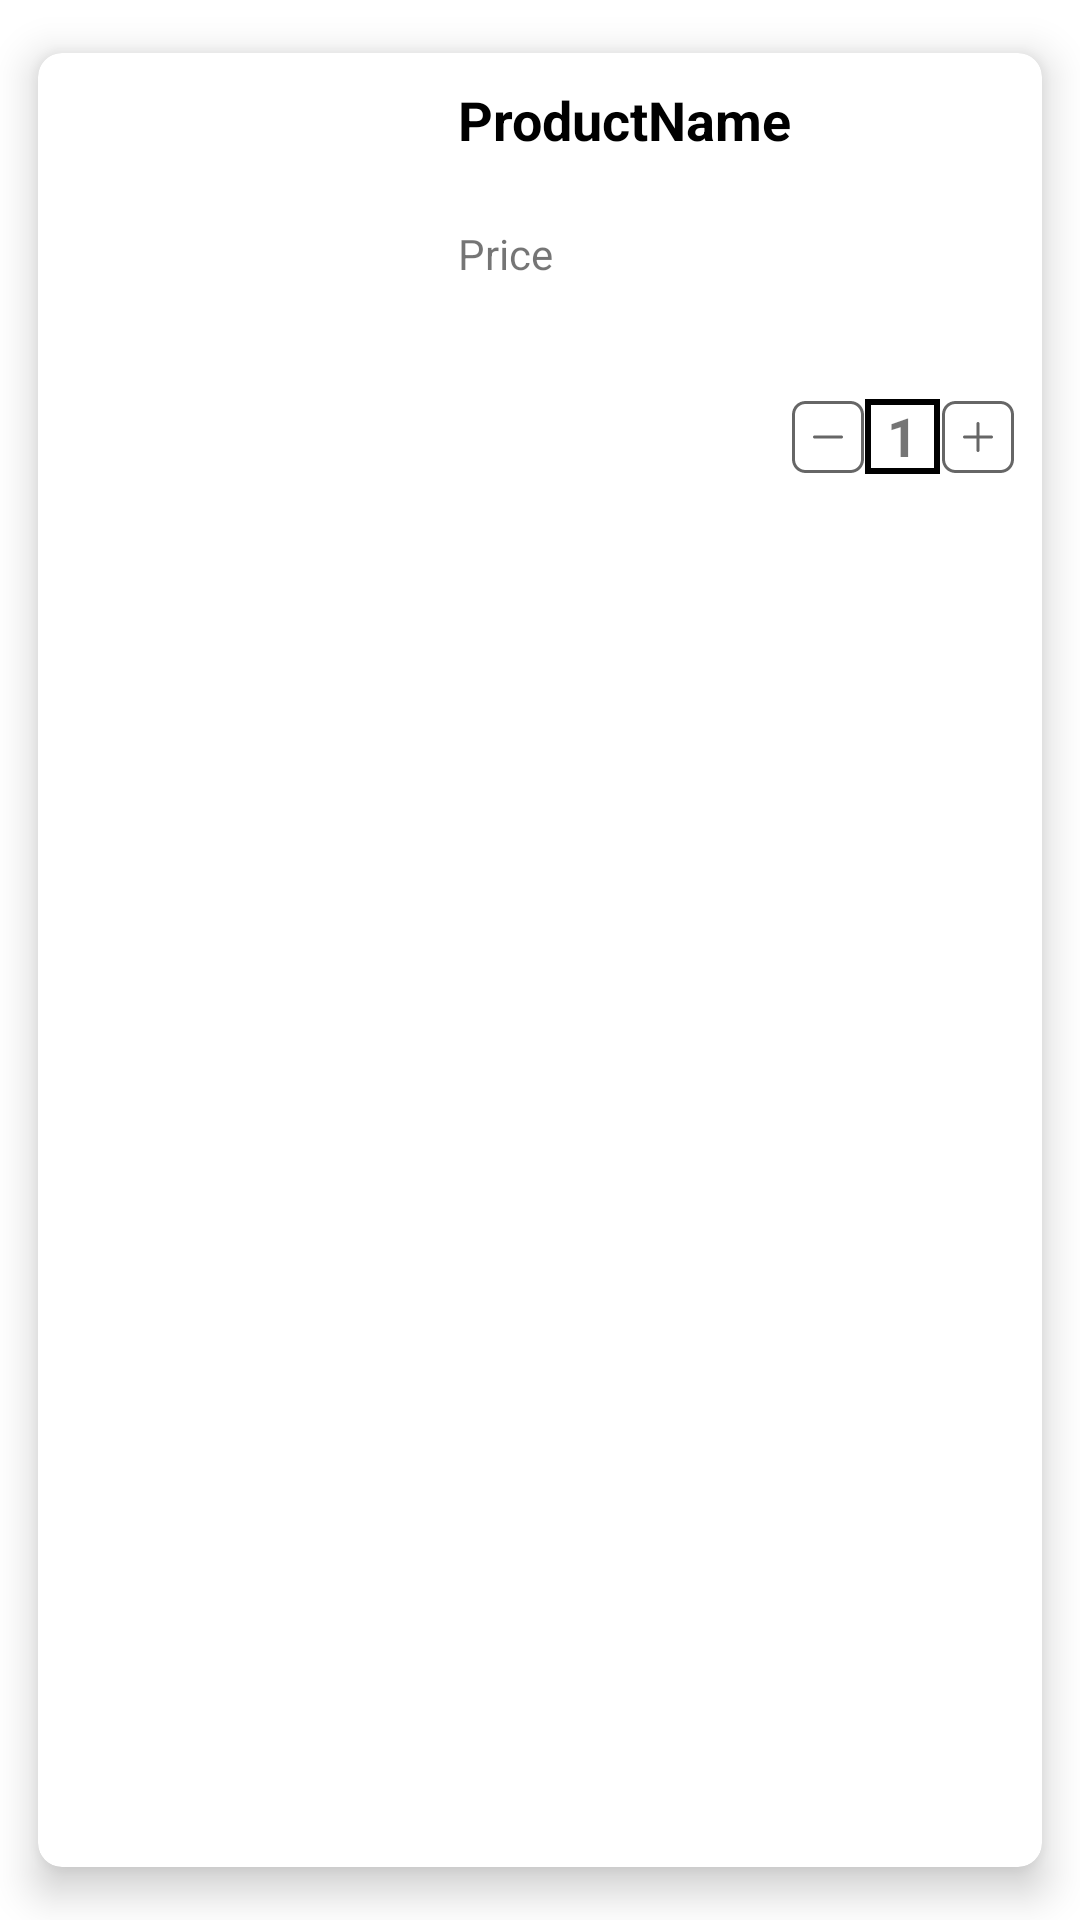

Icon bounding boxes for this 1080w x 1920h phone screenshot, format [left=x1, top=y1, right=x2, bottom=y2]:
squared minus: [left=792, top=401, right=864, bottom=473]
squre plus: [left=942, top=401, right=1014, bottom=473]
